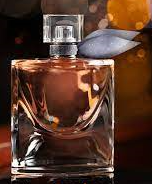lancome_la_vie_est_belle: (9, 9, 143, 181)
